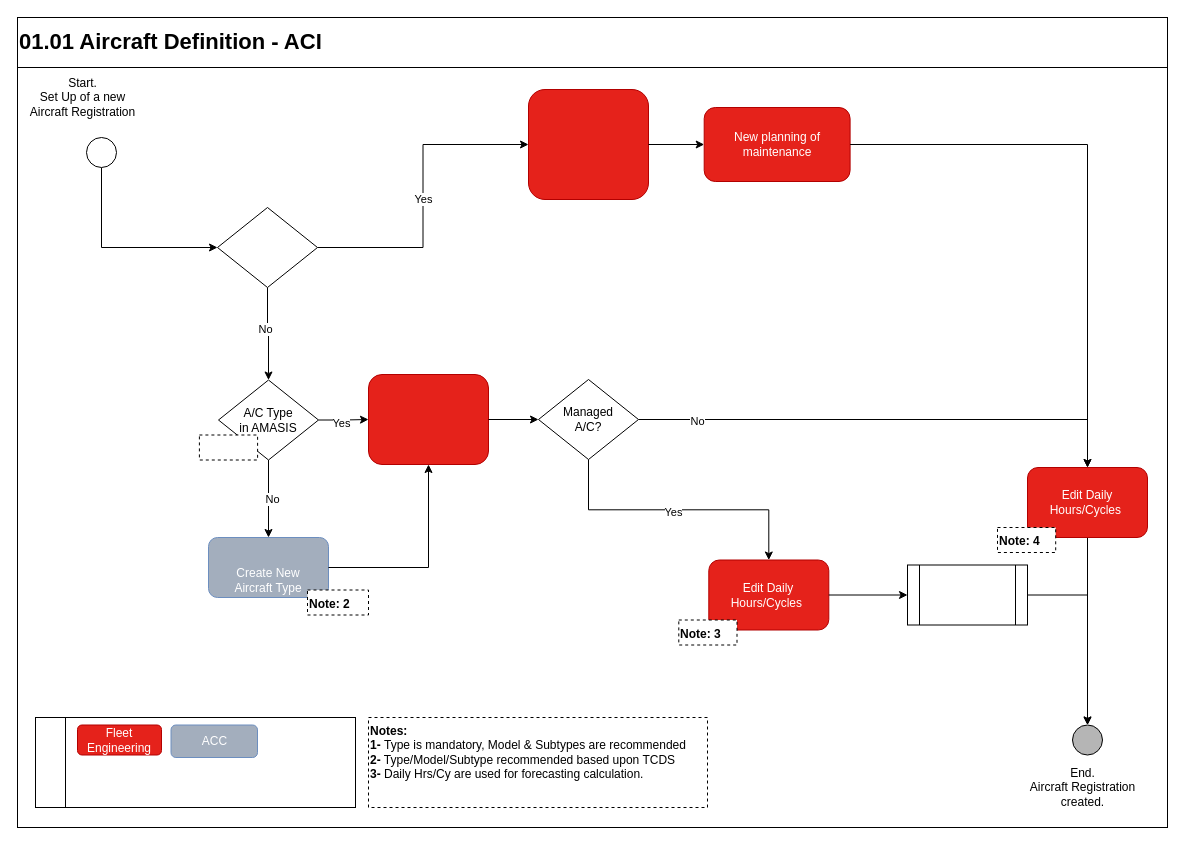
Image size: 1185x845. Some labels were removed from this diagram. The shapes that lost their labels are listed below. From the top down, each one's centre as x and y in pixels, then its label:
(588,144): A/C Update status
(267,247): A/C MSN in AMASIS
(428,419): Create A/C Registration associated to MSN
(228,447): Note: 1
(967,594): Phase In
(50,762): LEGEND
